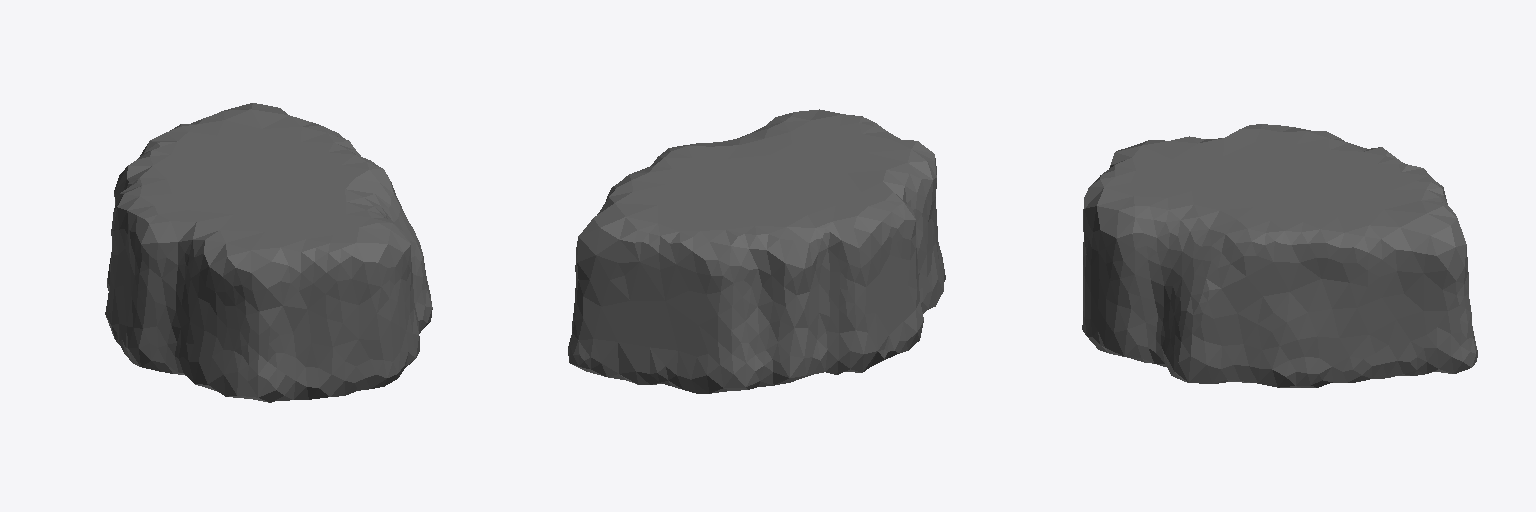
Rendered from CavePlatform3_B.obj.
3 renders of one model, left to right at view 1: azimuth 30°, elevation 25°; view 2: azimuth 150°, elevation 25°; view 3: azimuth 270°, elevation 25°, orthographic.
Visible parts, largest first — view 1: CavePlatform3B; view 2: CavePlatform3B; view 3: CavePlatform3B.
Part boxes in pixels (left/top/right/bottom): CavePlatform3B: left=105, top=103, right=432, bottom=402; CavePlatform3B: left=568, top=109, right=945, bottom=393; CavePlatform3B: left=1082, top=124, right=1477, bottom=387.
Bounding box in the file's own units: 39.14 × 20.55 × 48.39.